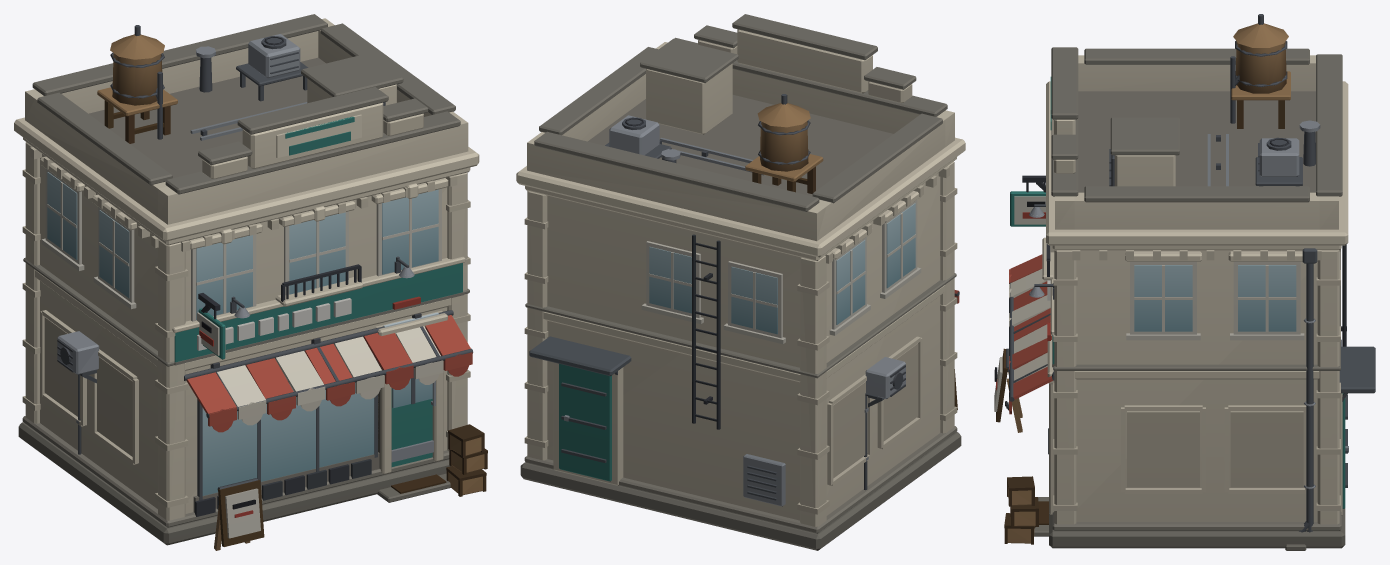
File: shop-awning-01.glb
3 renders of one model, left to right at view 1: azimuth 30°, elevation 25°; view 2: azimuth 150°, elevation 25°; view 3: azimuth 270°, elevation 25°, orthographic. The views are drawn at different scales.
Parts seen in each view (by area): view 1: shop_awning_01; view 2: shop_awning_01; view 3: shop_awning_01.
Part boxes in pixels (<box>): shop_awning_01: <box>14,14,487,550</box>; shop_awning_01: <box>516,14,965,550</box>; shop_awning_01: <box>994,14,1375,550</box>.
Bounding box in the file's own units: 6.25 × 7.65 × 6.26.
